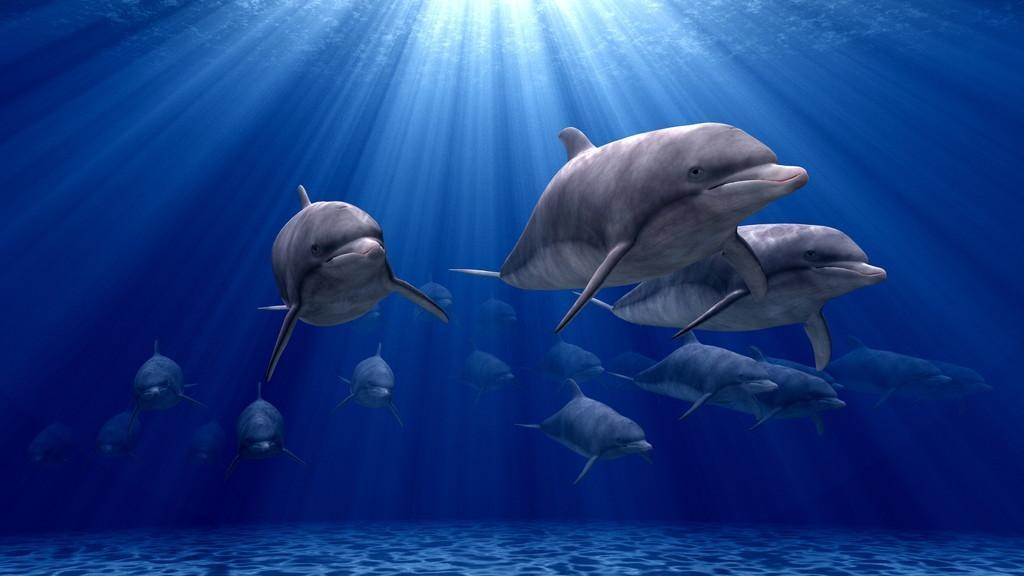fish: (457, 110, 813, 301), (588, 217, 893, 382), (256, 180, 451, 383), (511, 377, 660, 486), (616, 329, 781, 417), (327, 341, 431, 428), (827, 344, 953, 398), (127, 338, 201, 428), (235, 388, 309, 473), (529, 327, 611, 386), (460, 340, 513, 400), (467, 292, 521, 334)
